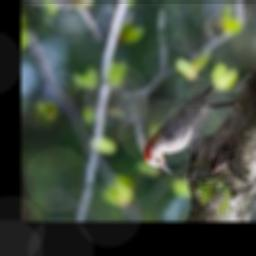Woodpecker: (144, 85, 236, 176)
